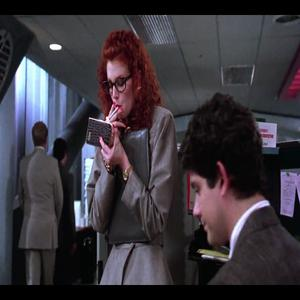cigarette: (104, 106, 119, 123)
